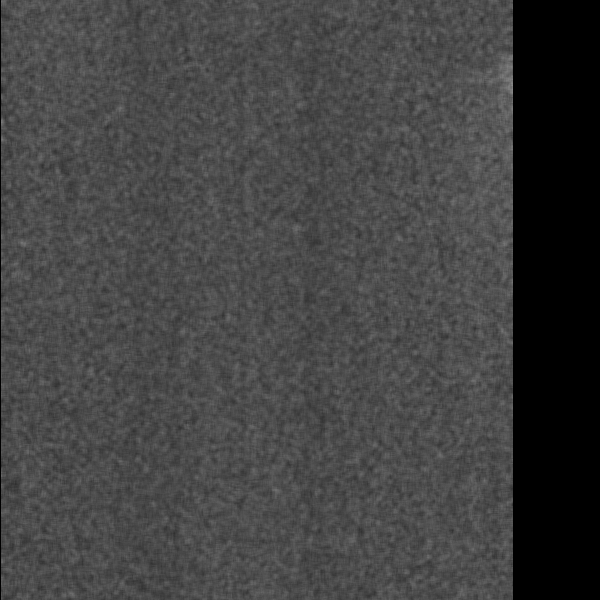spark: (430, 376, 488, 472), (6, 173, 34, 303), (80, 1, 144, 56), (474, 184, 499, 235)
